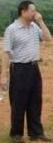boots: (30, 134, 51, 141), (11, 135, 24, 143)
